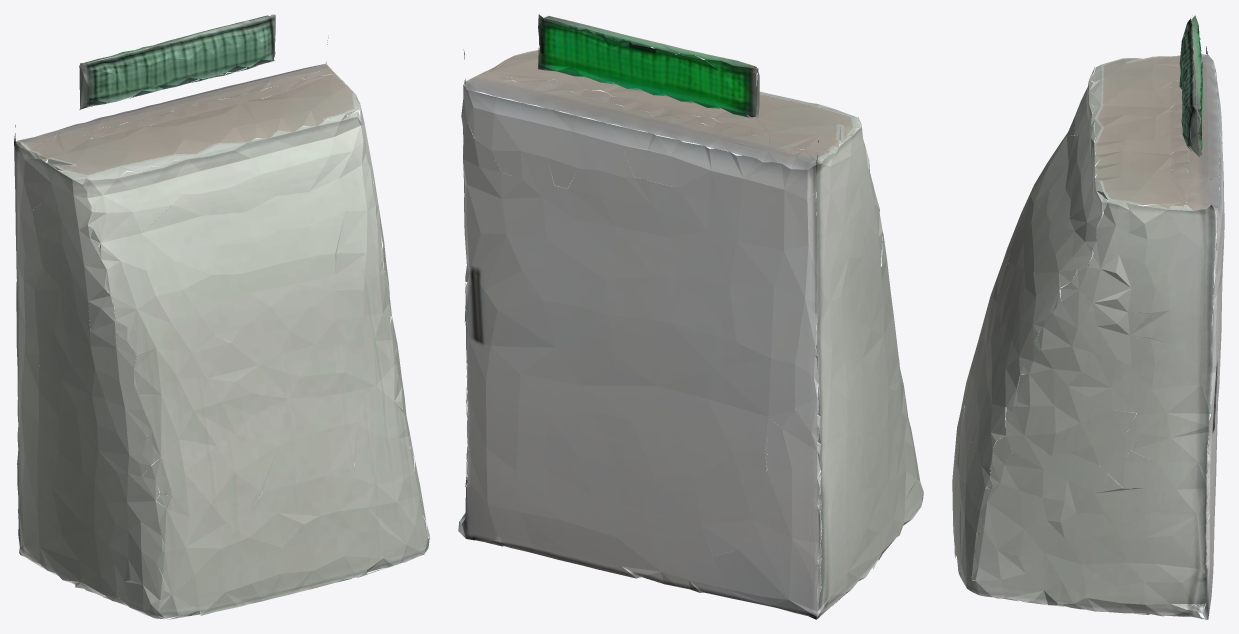
The model's file is door.glb.
3 views of the same model, side by side, from view 1: azimuth 30°, elevation 25°; view 2: azimuth 150°, elevation 25°; view 3: azimuth 270°, elevation 25° (orthographic). The views are drawn at different scales.
Parts seen in each view (by area): view 1: world; view 2: world; view 3: world.
Part boxes in pixels (box(x1,y1,x2,y2)): world: box(14, 14, 429, 619); world: box(458, 14, 923, 619); world: box(952, 15, 1224, 619).
Size of the model in its own units: 0.5979 by 0.8457 by 0.432.
Materials: 1 (1 with a texture image).
